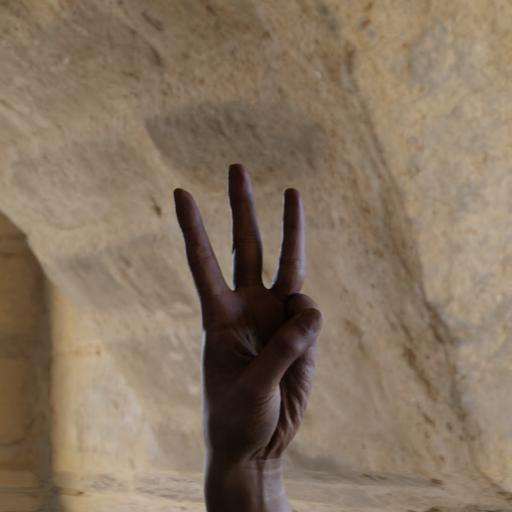W: (157, 143, 337, 486)
